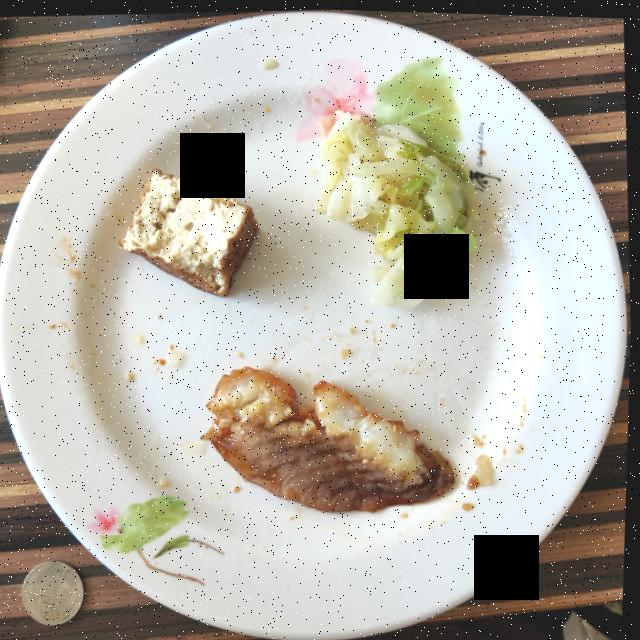Kabayaki sea bream fillet: (204, 365, 457, 509)
cabbage: (319, 108, 478, 304)
coin: (26, 560, 87, 624)
egg tofu: (121, 167, 259, 294)
